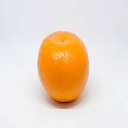orange: (35, 28, 92, 107)
